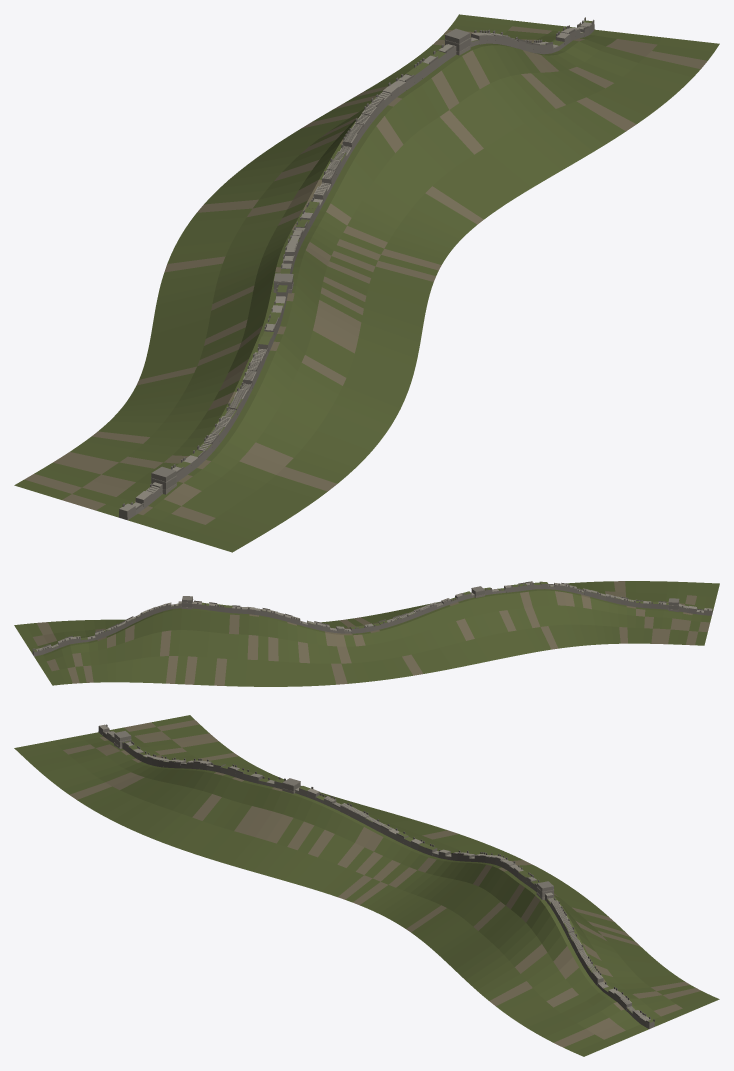
File: great-wall-ruin.glb
The picture shows the model from 3 angles, top to bottom: view 1: azimuth 30°, elevation 25°; view 2: azimuth 150°, elevation 25°; view 3: azimuth 270°, elevation 25°; orthographic projection. The views are drawn at different scales.
Visible parts, largest first — view 1: great-wall-ruin; view 2: great-wall-ruin; view 3: great-wall-ruin.
Part boxes in pixels (<box>): great-wall-ruin: <box>14,14,719,552</box>; great-wall-ruin: <box>14,581,719,686</box>; great-wall-ruin: <box>14,715,719,1056</box>.
Bounding box in the file's own units: 672 × 65.5 × 586.
